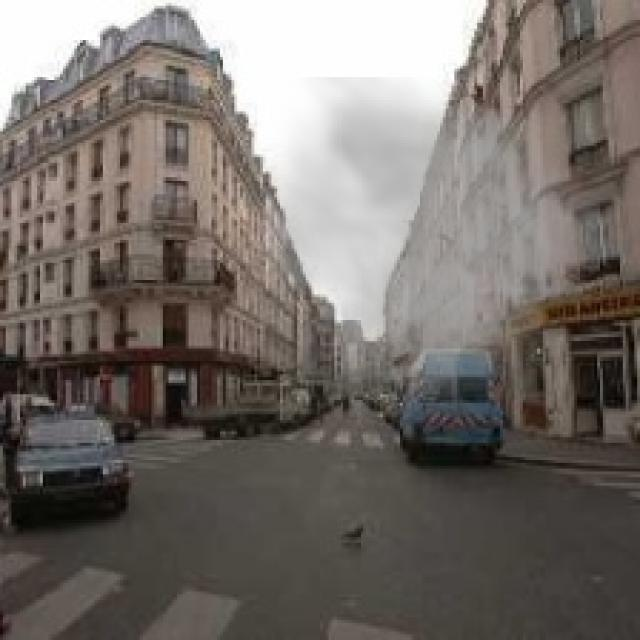Smoke: (235, 77, 620, 432)
